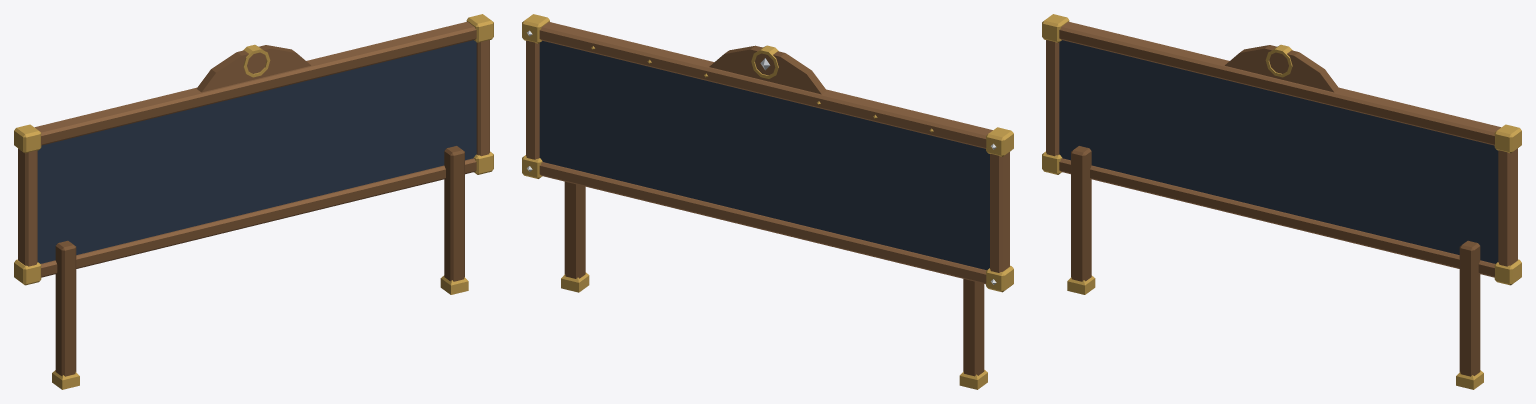
The model's file is SignboardPosted.obj.
The picture shows the model from 3 angles, left to right: view 1: azimuth 30°, elevation 25°; view 2: azimuth 150°, elevation 25°; view 3: azimuth 330°, elevation 25°; orthographic projection. The views are drawn at different scales.
Bounding box in the file's own units: 12.84 × 7.4 × 0.88.
